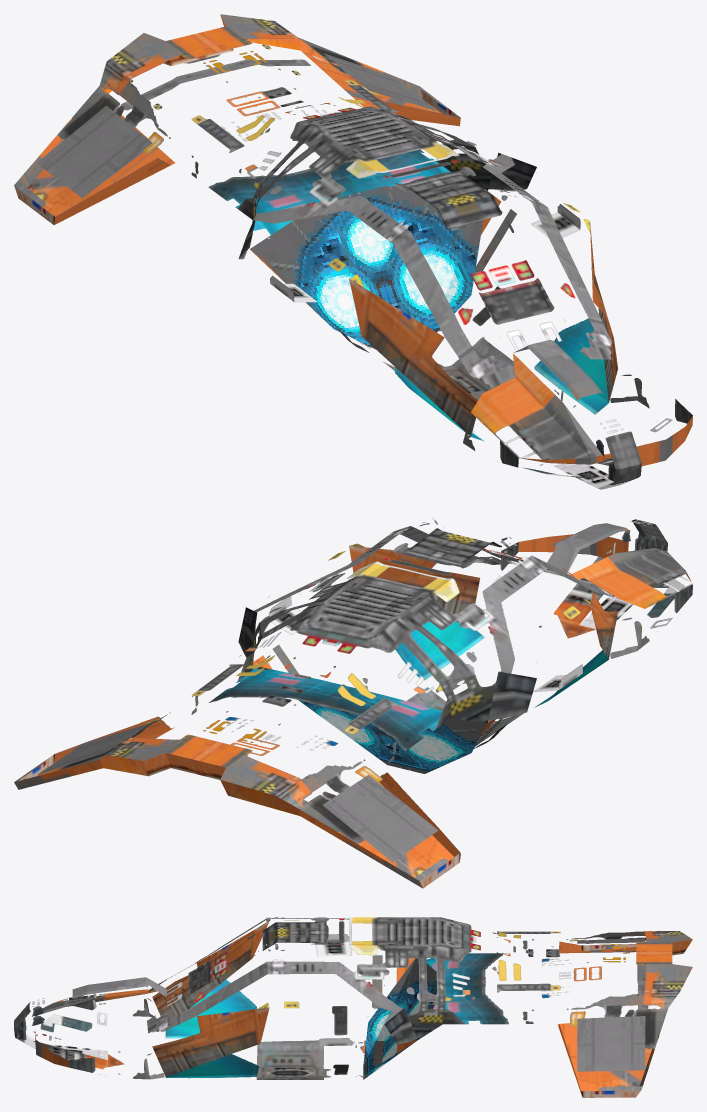
The model's file is LOD0-UVFlip.obj.
3 views of the same model, one above another, from view 1: azimuth 30°, elevation 25°; view 2: azimuth 150°, elevation 25°; view 3: azimuth 270°, elevation 25° (orthographic). The views are drawn at different scales.
Parts seen in each view (by area): view 1: frontUV, burnerUV, leftoverUV, Badge0_MAT; view 2: frontUV, leftoverUV, Badge0_MAT, burnerUV; view 3: frontUV, Badge0_MAT, leftoverUV, burnerUV.
Part boxes in pixels (x1,y1,x2,y2): frontUV: (14,14,692,489); burnerUV: (250,186,487,349); leftoverUV: (14,15,460,224); Badge0_MAT: (36,53,437,198); frontUV: (15,518,692,880); leftoverUV: (14,716,460,888); Badge0_MAT: (37,723,438,862); burnerUV: (257,667,487,773); frontUV: (14,917,692,1090); Badge0_MAT: (577,938,645,1071); leftoverUV: (557,939,692,1097); burnerUV: (363,958,437,1079).
Bounding box in the file's own units: 11.7 × 5.34 × 23.03.
